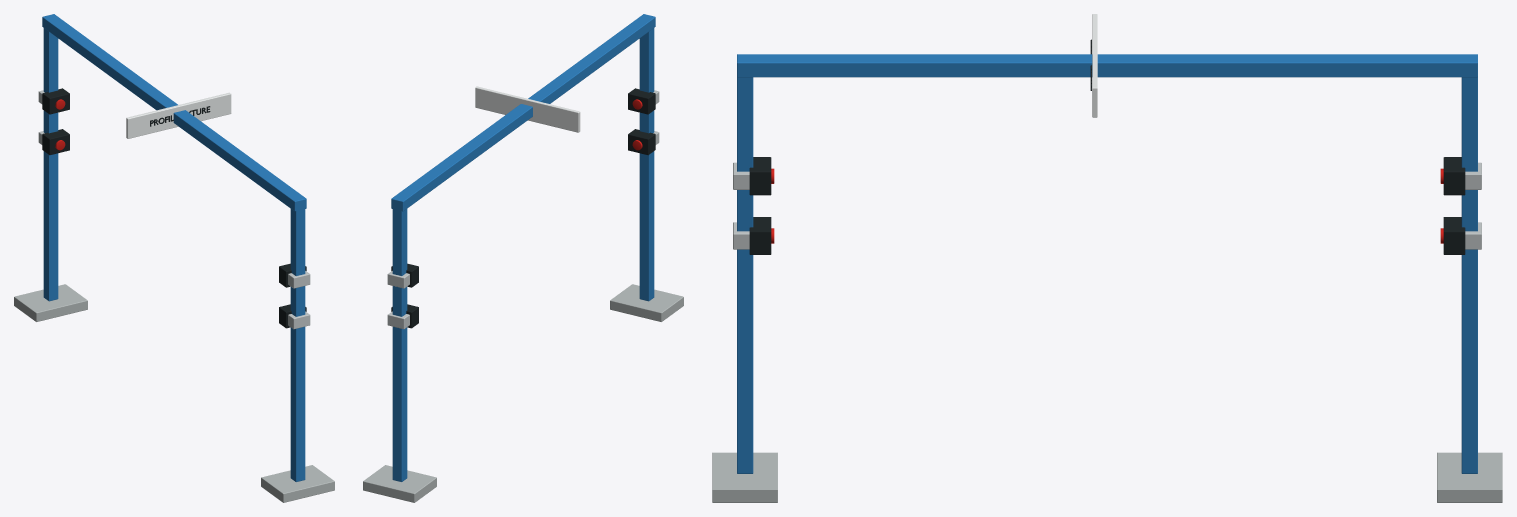
File: pallet_type_sensor.glb
The picture shows the model from 3 angles, left to right: view 1: azimuth 30°, elevation 25°; view 2: azimuth 150°, elevation 25°; view 3: azimuth 270°, elevation 25°; orthographic projection. The views are drawn at different scales.
Parts seen in each view (by area): view 1: PROFILE_crossbeam, PROFILE_post_-1, PROFILE_post_1, PROFILE_legend_plate, PROFILE_foot_-1, PROFILE_foot_1, PROFILE_head_1_0, PROFILE_head_1_1; view 2: PROFILE_crossbeam, PROFILE_post_1, PROFILE_post_-1, PROFILE_legend_plate, PROFILE_foot_1, PROFILE_foot_-1, PROFILE_head_-1_0, PROFILE_head_-1_1; view 3: PROFILE_crossbeam, PROFILE_post_1, PROFILE_post_-1, PROFILE_foot_1, PROFILE_foot_-1, PROFILE_head_1_1, PROFILE_head_-1_1.
Boxes of the visible parts, x1,y1,x2,y2 form: PROFILE_crossbeam: (42, 14, 306, 211); PROFILE_post_-1: (290, 200, 305, 481); PROFILE_post_1: (43, 28, 58, 301); PROFILE_legend_plate: (126, 92, 231, 138); PROFILE_foot_-1: (261, 465, 334, 502); PROFILE_foot_1: (14, 284, 87, 321); PROFILE_head_1_0: (42, 129, 69, 155); PROFILE_head_1_1: (42, 88, 69, 114); PROFILE_crossbeam: (391, 14, 655, 211); PROFILE_post_1: (392, 200, 407, 481); PROFILE_post_-1: (639, 28, 654, 301); PROFILE_legend_plate: (475, 86, 580, 132); PROFILE_foot_1: (363, 465, 436, 502); PROFILE_foot_-1: (610, 284, 683, 321); PROFILE_head_-1_0: (628, 129, 655, 155); PROFILE_head_-1_1: (628, 88, 655, 114); PROFILE_crossbeam: (737, 54, 1477, 77); PROFILE_post_1: (1461, 77, 1477, 473); PROFILE_post_-1: (737, 77, 753, 473); PROFILE_foot_1: (1437, 452, 1502, 502); PROFILE_foot_-1: (712, 452, 777, 502); PROFILE_head_1_1: (1443, 157, 1465, 195); PROFILE_head_-1_1: (749, 157, 771, 195).
Bounding box in the file's own units: 0.8 × 2.18 × 3.6.
